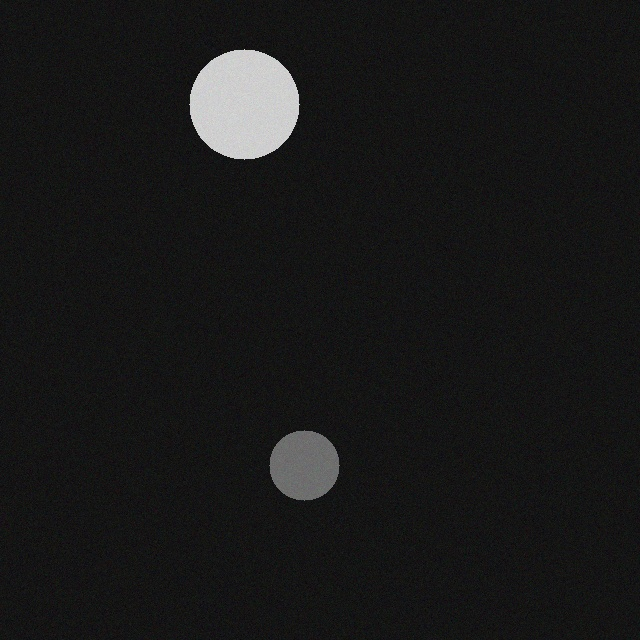circle: (201, 50, 311, 160), (281, 431, 351, 501)
